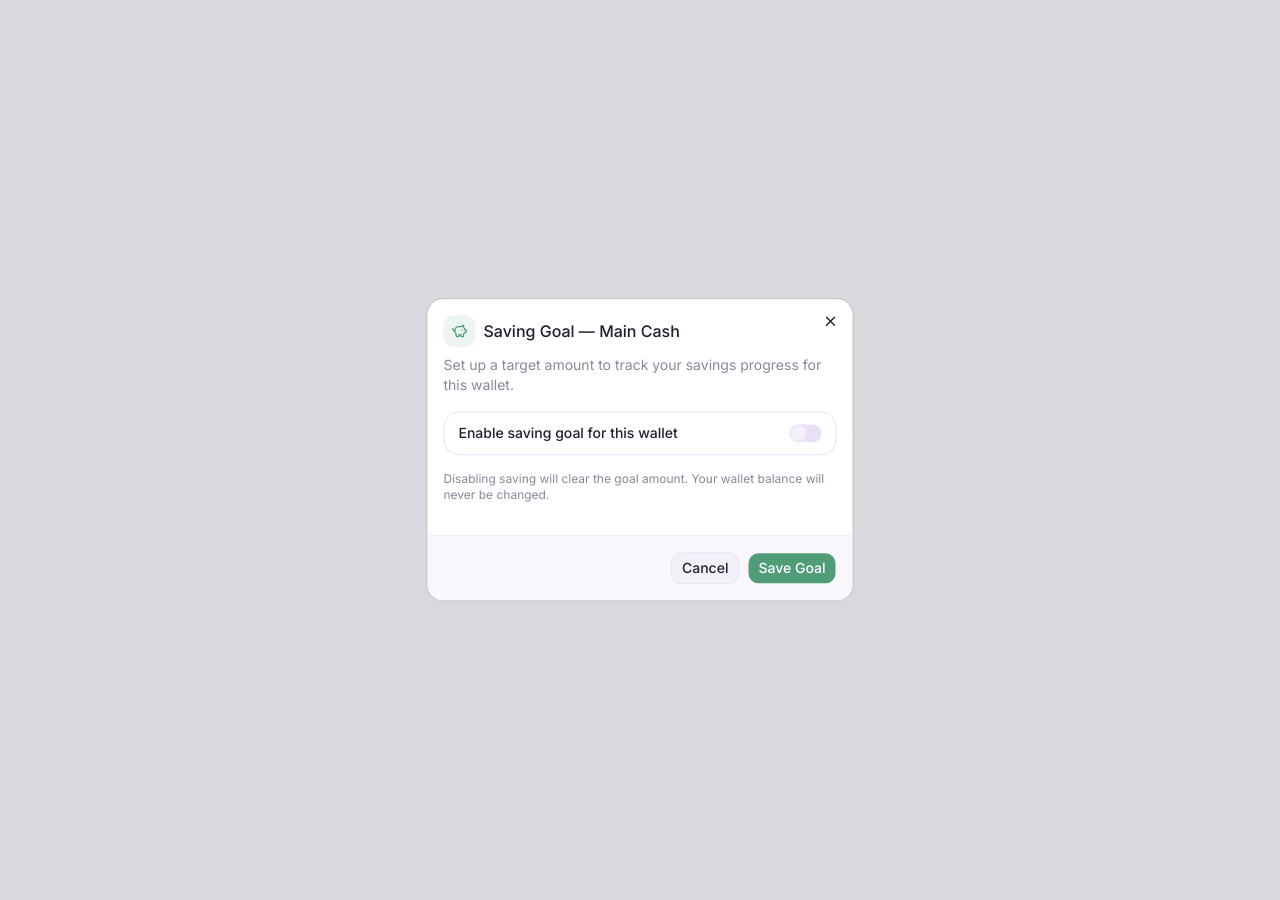
SavingGoalDialog — switch › refuses a goal of zero
The width and height of the screenshot is (1280, 900).
Click the switch named "Enable saving goal for this wallet": (806, 434) [790, 424, 822, 443]
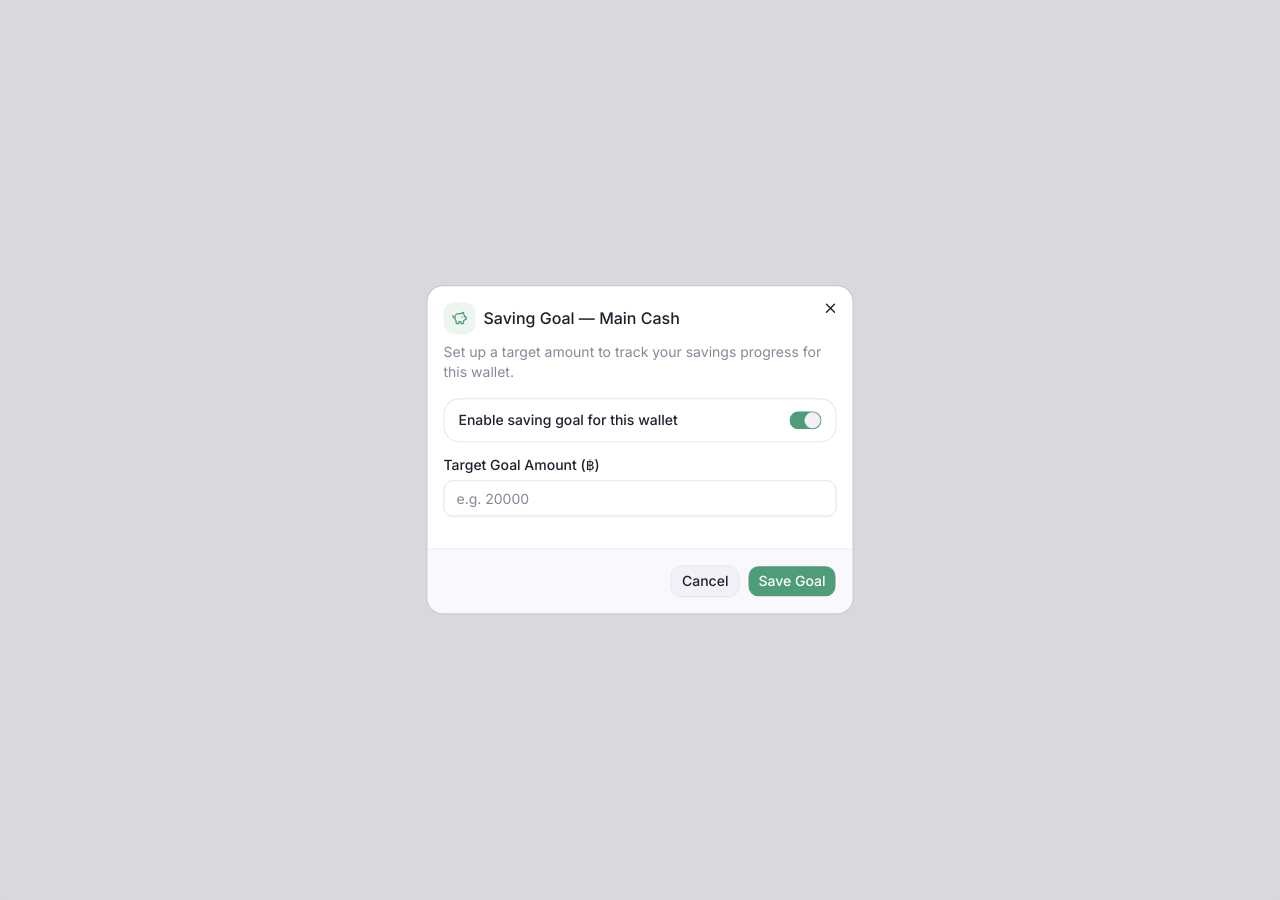
In the number field labelled "Target Goal Amount (฿)": (640, 499) [444, 481, 836, 517], type "0"
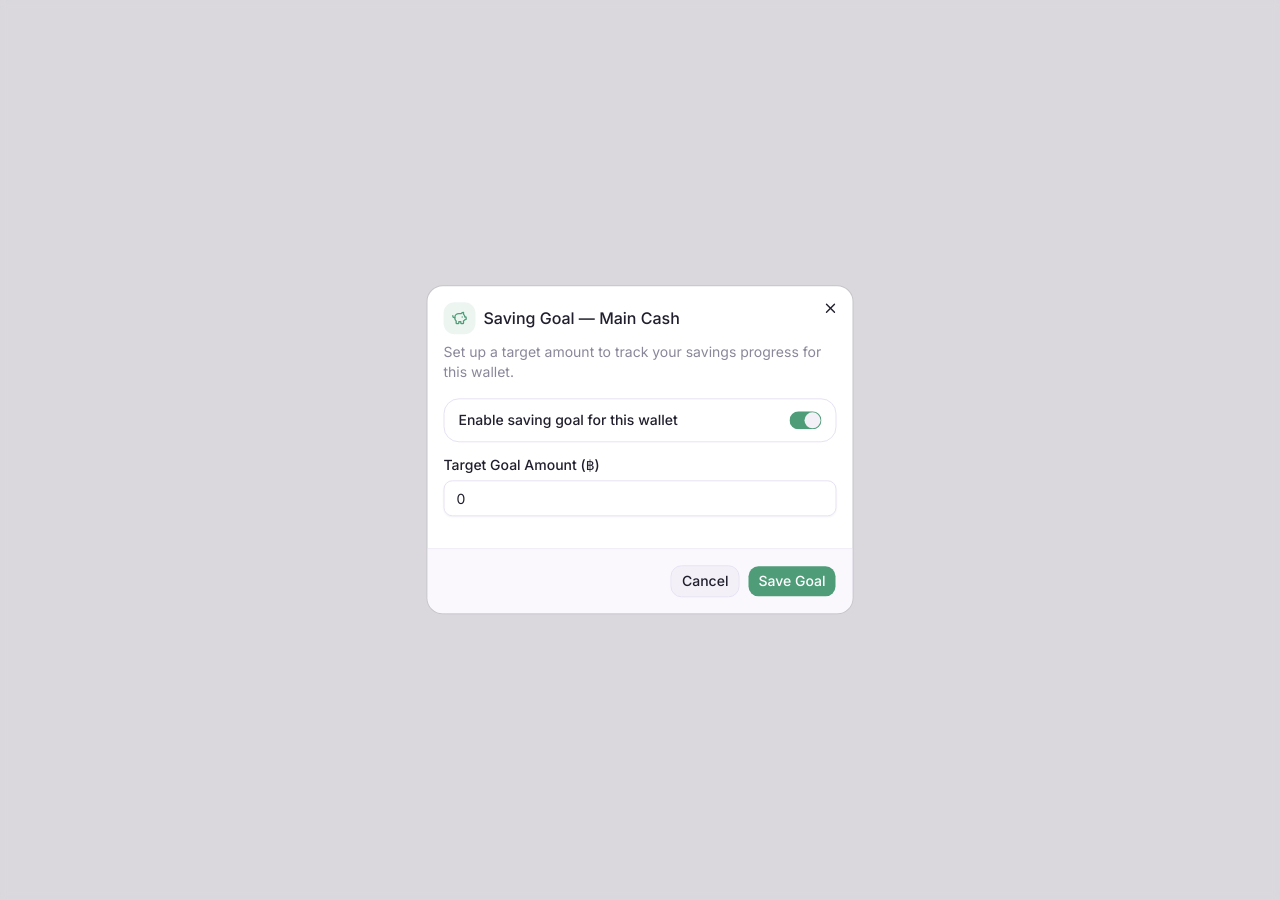
Submit the form named "Save Goal", box [444, 302, 836, 598]
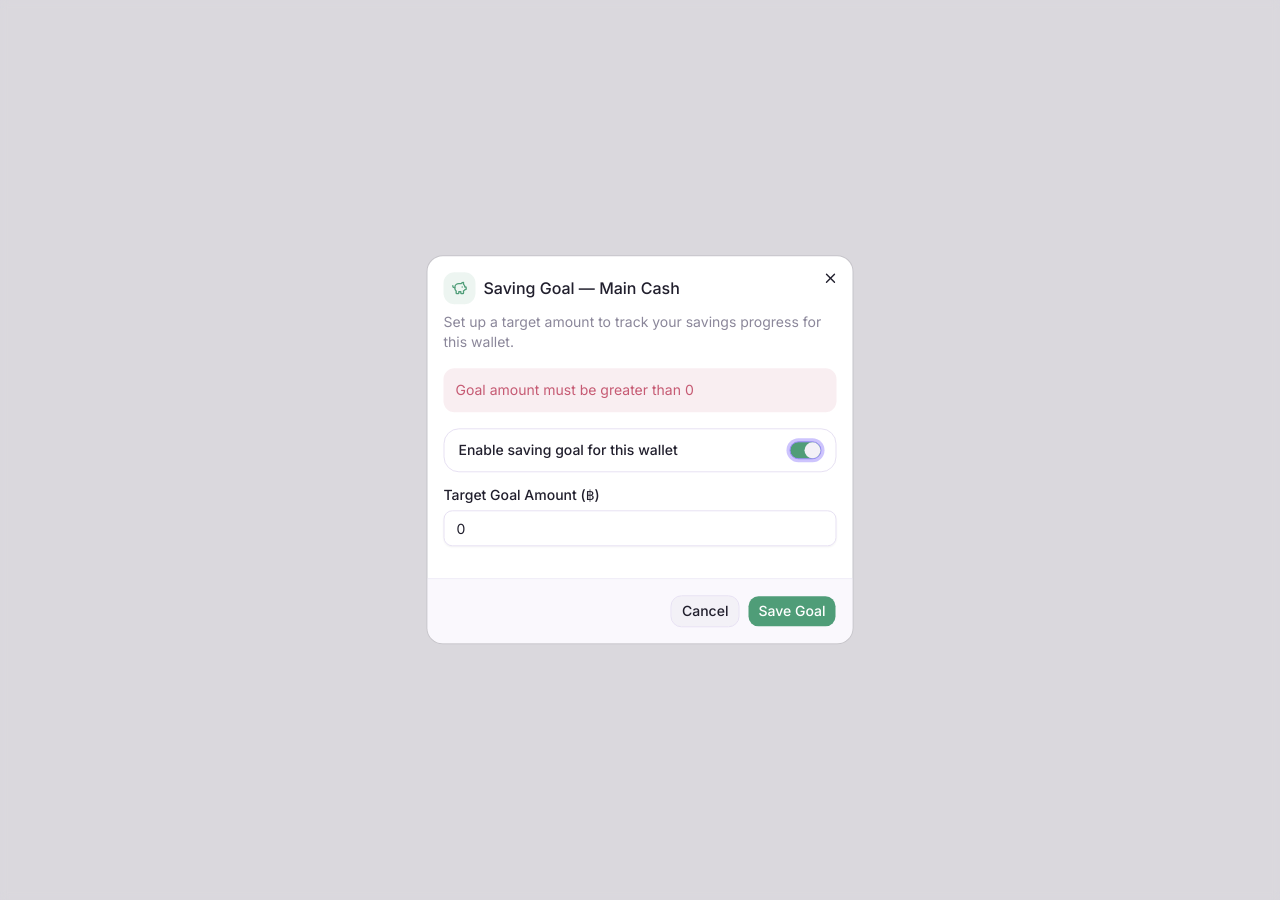
expect the message reads "Goal amount must be greater than 0": met, box [456, 381, 694, 398]
